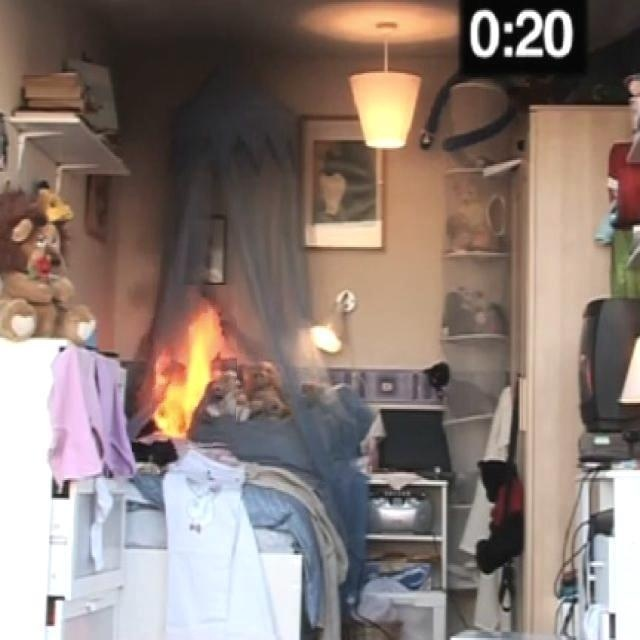fire: (125, 301, 250, 452)
